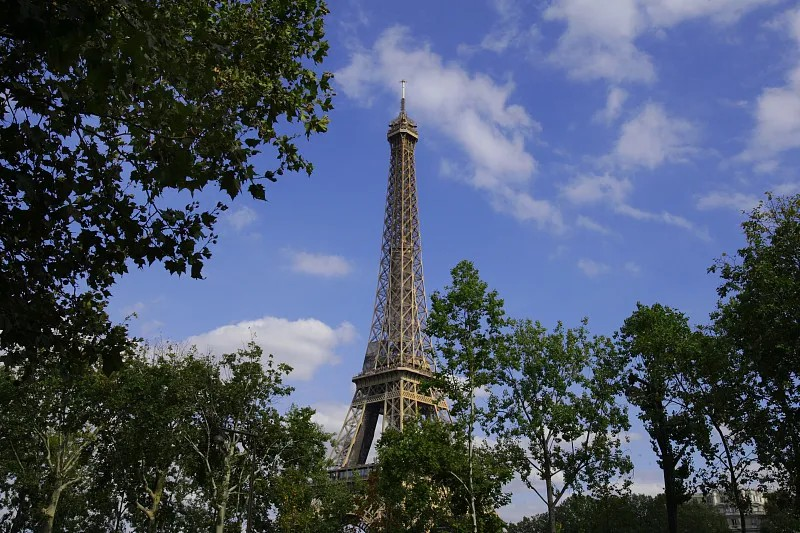Eiffel: (321, 81, 479, 533)
